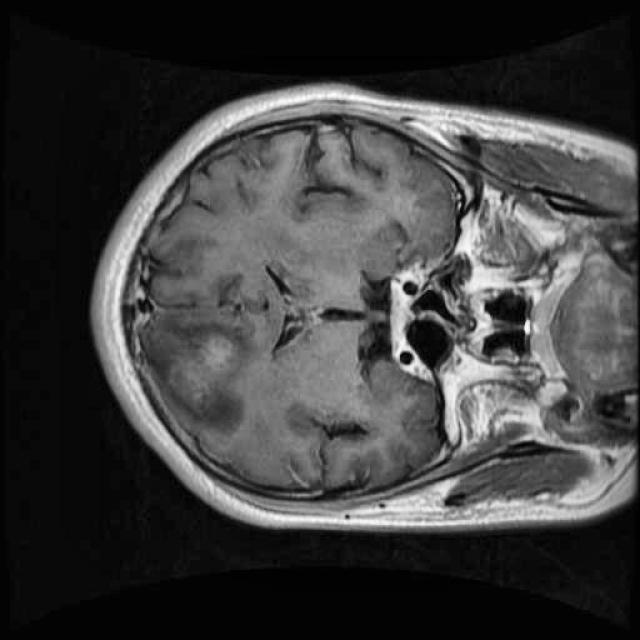Tumor: (134, 306, 274, 450)
